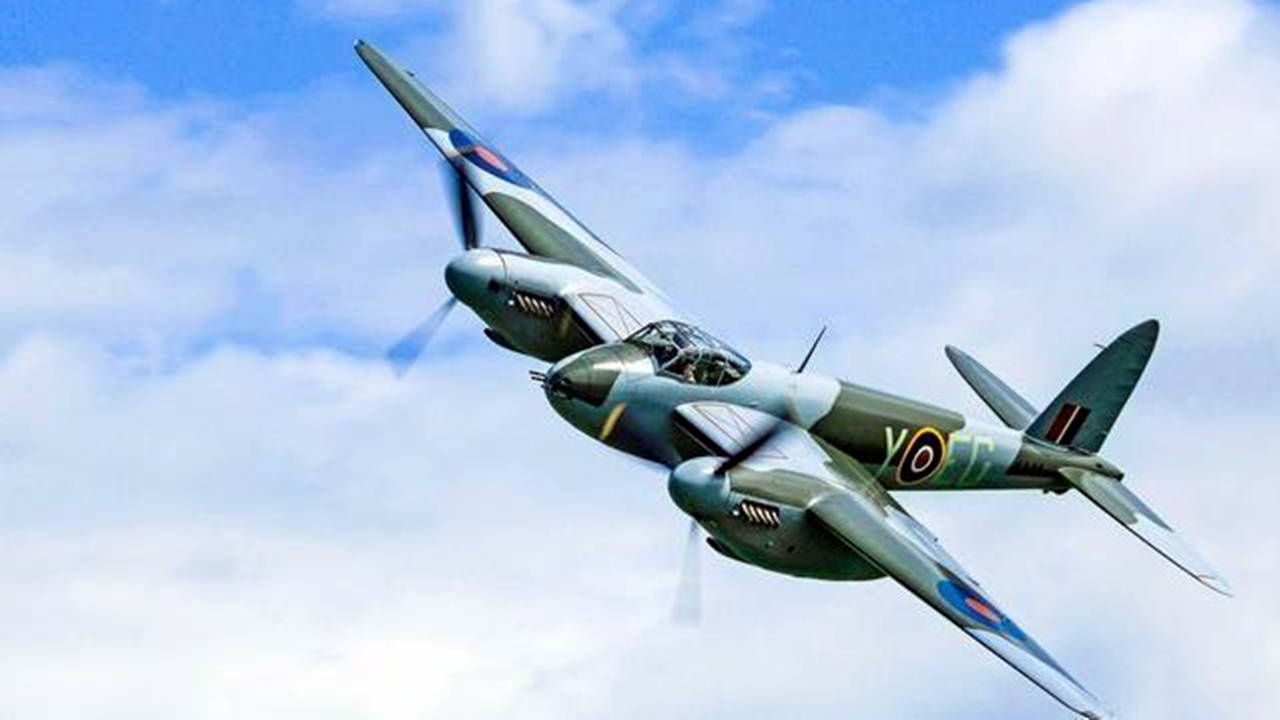airplane: (348, 32, 1234, 720)
